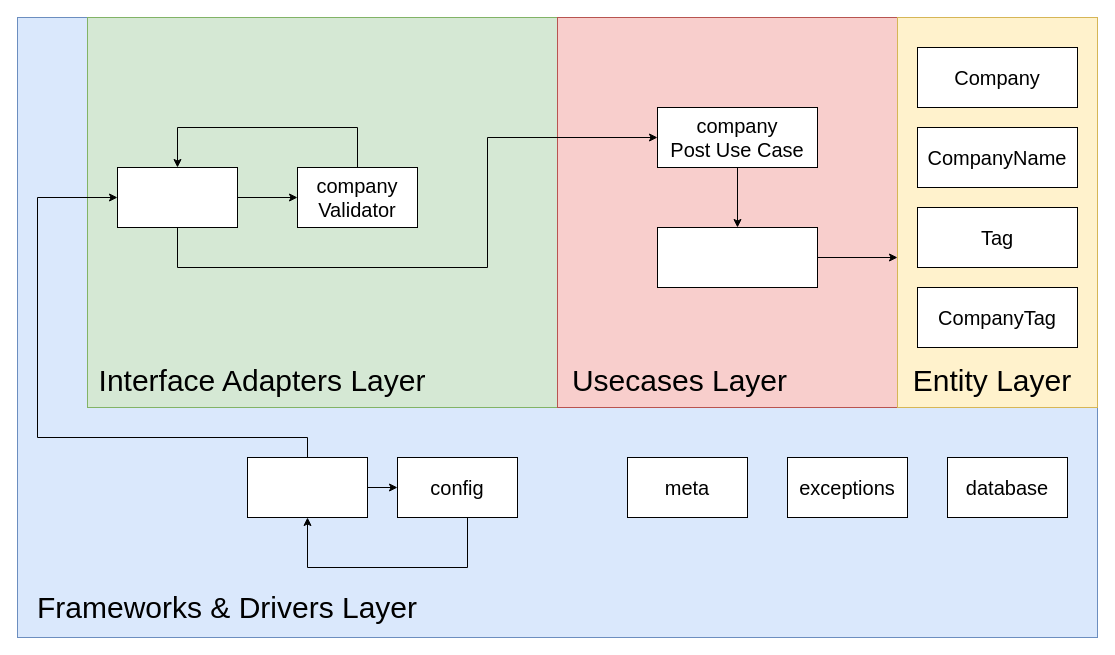
This 1115x655 diagram has some shape labels left out. Here are the shapes that lost their labels. From the top down, the centre of each, then its label:
At (x=177, y=197): "company Controller".
At (x=737, y=257): "company Repository".
At (x=307, y=487): "app".
